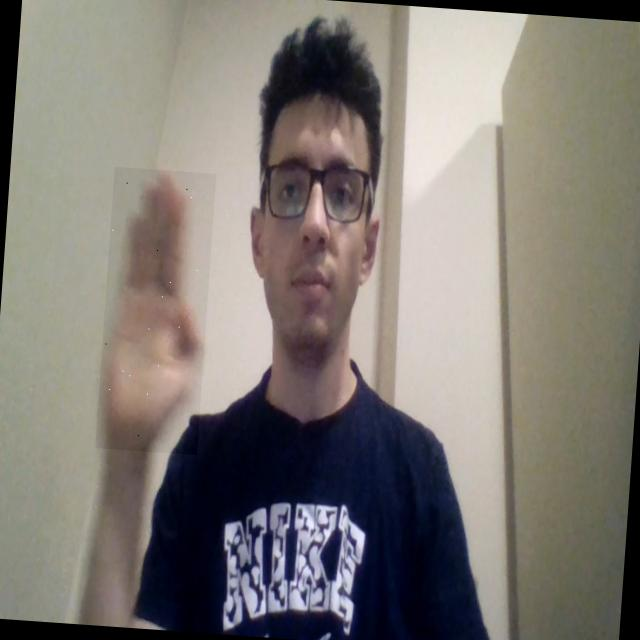hello: (95, 166, 216, 455)
